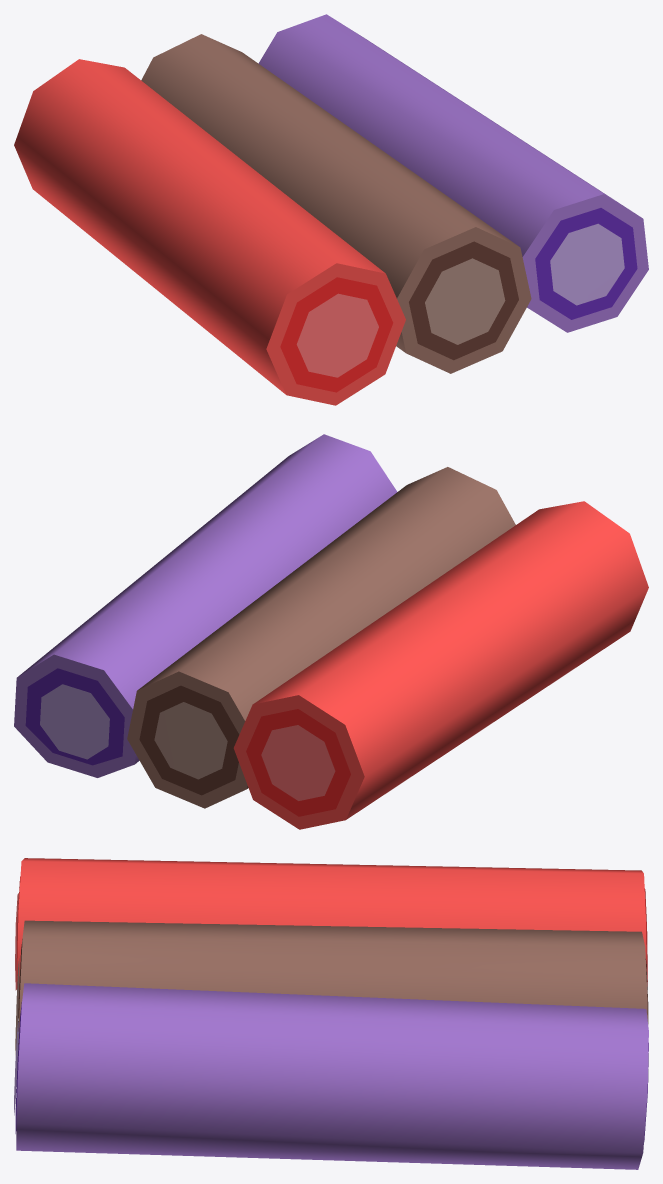
File: bathroom_item_013.glb
3 views of the same model, one above another, from view 1: azimuth 30°, elevation 25°; view 2: azimuth 150°, elevation 25°; view 3: azimuth 270°, elevation 25° (orthographic). The views are drawn at different scales.
Visible parts, largest first — view 1: bathroom_item_013; view 2: bathroom_item_013; view 3: bathroom_item_013.
Part boxes in pixels (box(x1,y1,x2,y2)): bathroom_item_013: box(14, 14, 648, 405); bathroom_item_013: box(14, 434, 648, 829); bathroom_item_013: box(14, 858, 648, 1169).
Size of the model in its own units: 0.3039 by 0.1123 by 0.3896.
1 material, 1 textured.
